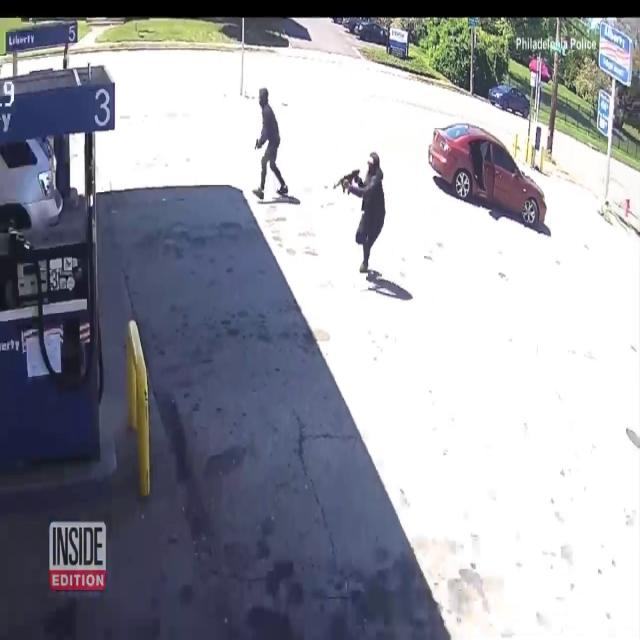penembakan: (334, 151, 386, 282), (249, 83, 291, 208)
